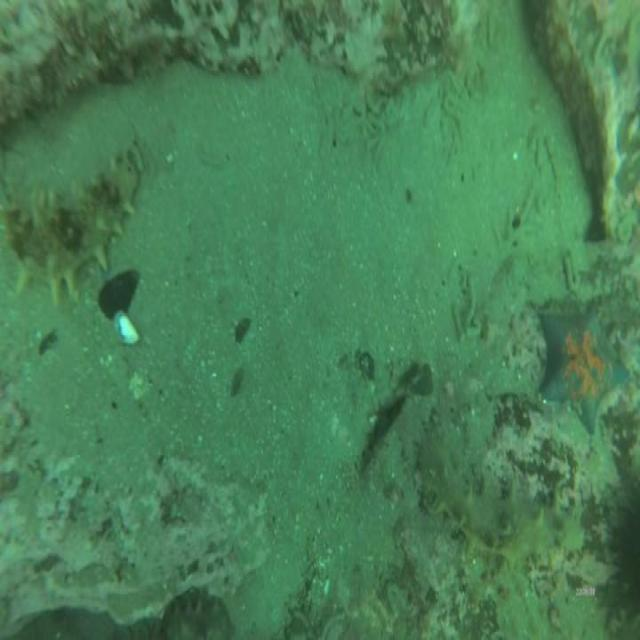holothurian: (0, 136, 147, 306), (418, 442, 588, 584)
starfish: (538, 297, 632, 439)
